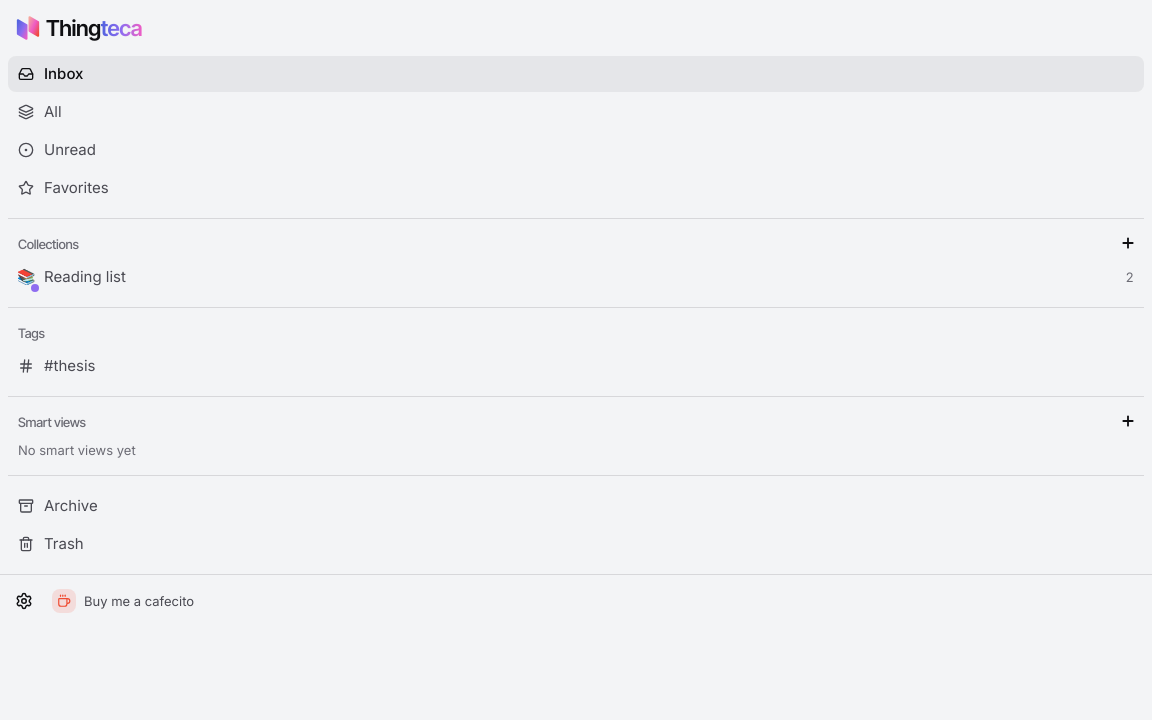
new collection › offers the six aurora colors and none, none selected by default
Click the button named "New collection": (1128, 243) [1116, 231, 1140, 255]
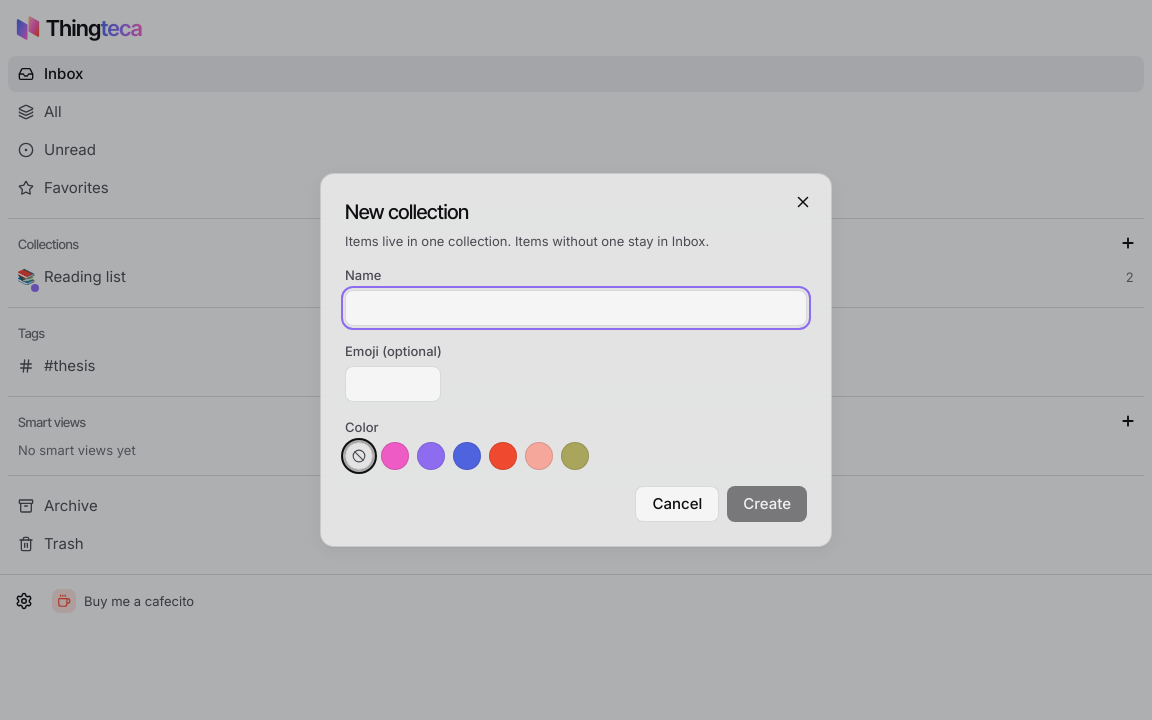
Now the 1st radio button is checked, box [345, 442, 373, 470]
